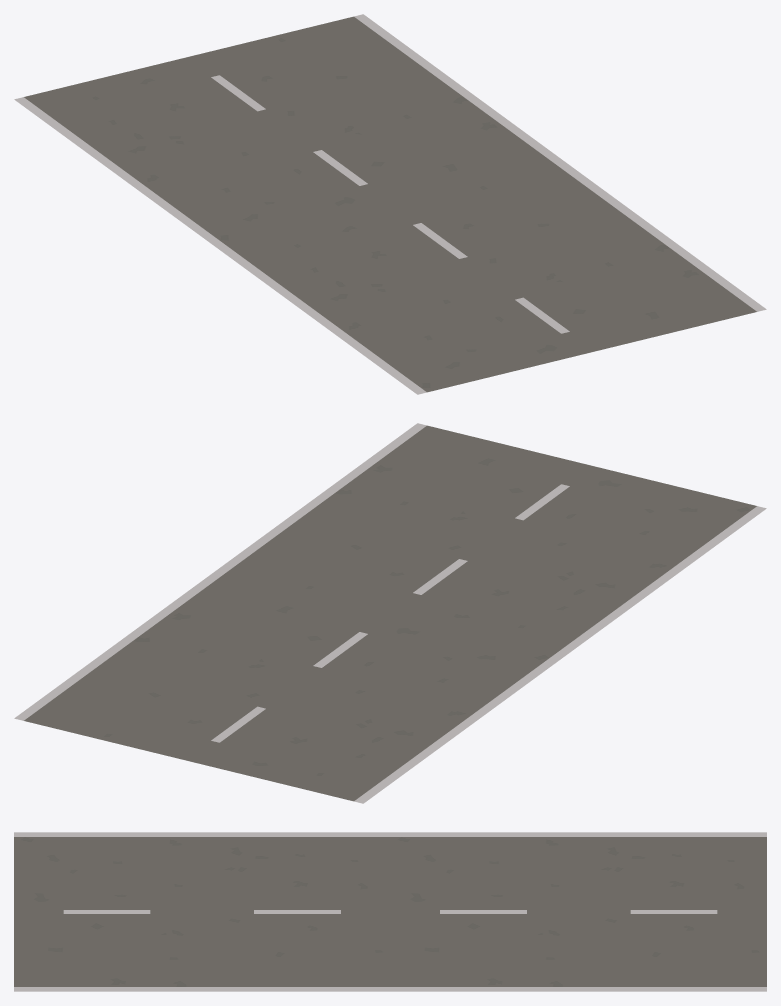
File: SM_Env_Road_Highway_01.glb
3 views of the same model, one above another, from view 1: azimuth 30°, elevation 25°; view 2: azimuth 150°, elevation 25°; view 3: azimuth 270°, elevation 25° (orthographic). The views are drawn at different scales.
Visible parts, largest first — view 1: SM_Env_Road_Highway_01; view 2: SM_Env_Road_Highway_01; view 3: SM_Env_Road_Highway_01.
Boxes of the visible parts, bbox=[...] form: SM_Env_Road_Highway_01: bbox=[14, 14, 766, 394]; SM_Env_Road_Highway_01: bbox=[14, 423, 766, 803]; SM_Env_Road_Highway_01: bbox=[14, 832, 766, 991].
Bounding box in the file's own units: 10 × 4.44e-15 × 20.
Materials: 1 (1 with a texture image).
